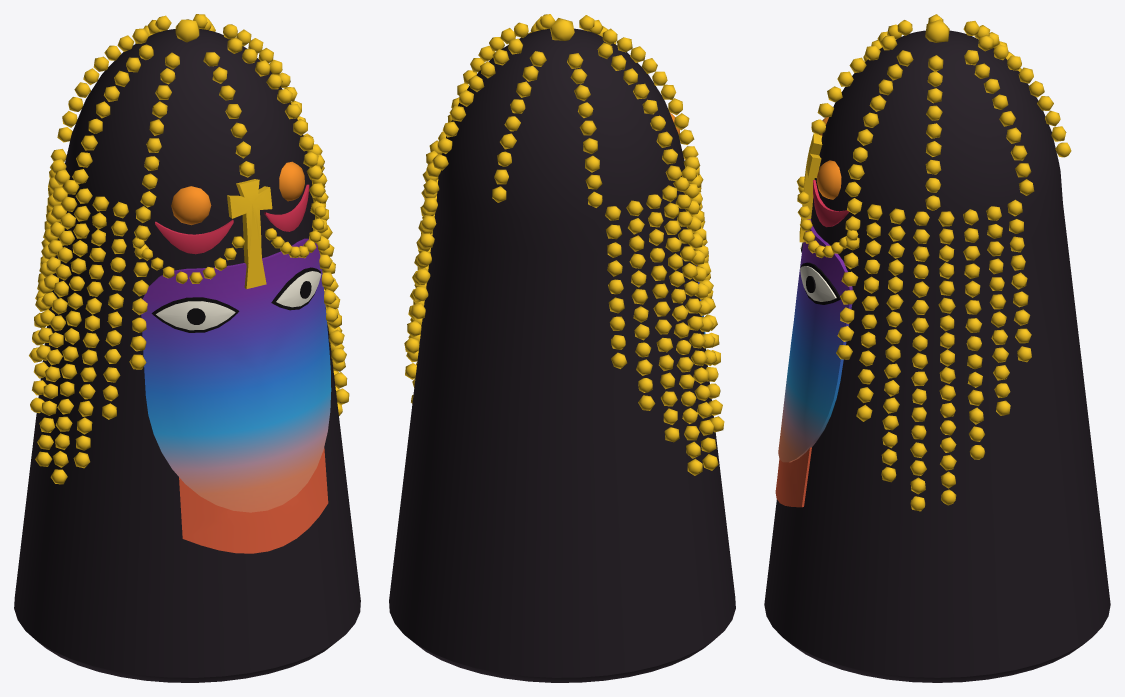
File: fig2_namysto.glb
3 views of the same model, side by side, from view 1: azimuth 30°, elevation 25°; view 2: azimuth 150°, elevation 25°; view 3: azimuth 270°, elevation 25° (orthographic).
Visible parts, largest first — view 1: fig2_namysto; view 2: fig2_namysto; view 3: fig2_namysto.
Boxes of the visible parts, <box> form: fig2_namysto: <box>14,14,360,682</box>; fig2_namysto: <box>389,14,735,682</box>; fig2_namysto: <box>764,14,1110,682</box>.
Size of the model in its own units: 1.99 by 3.75 by 1.99.
Materials: 1 (1 with a texture image).
